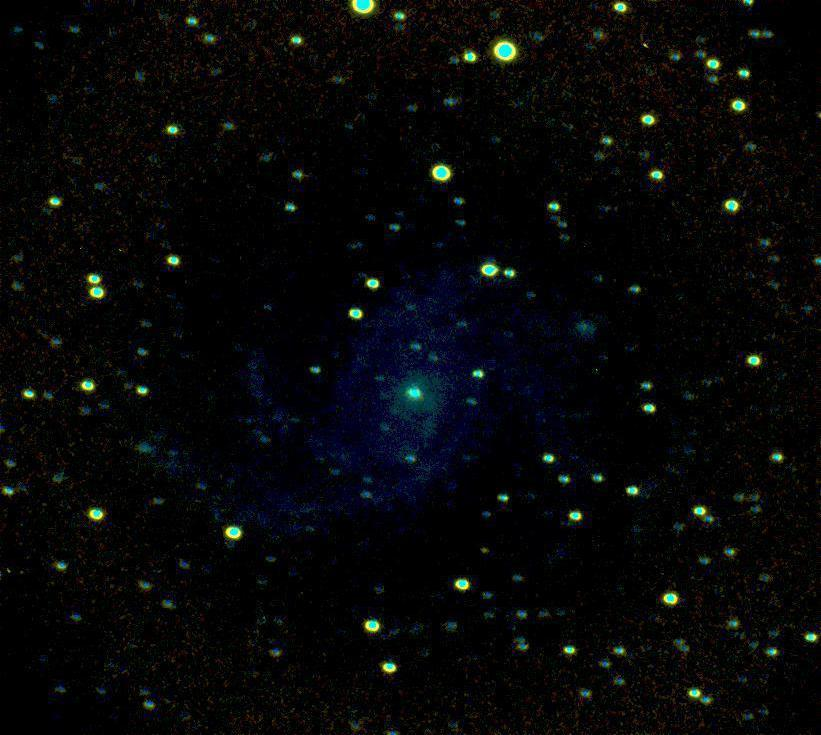star: (468, 535, 498, 565)
